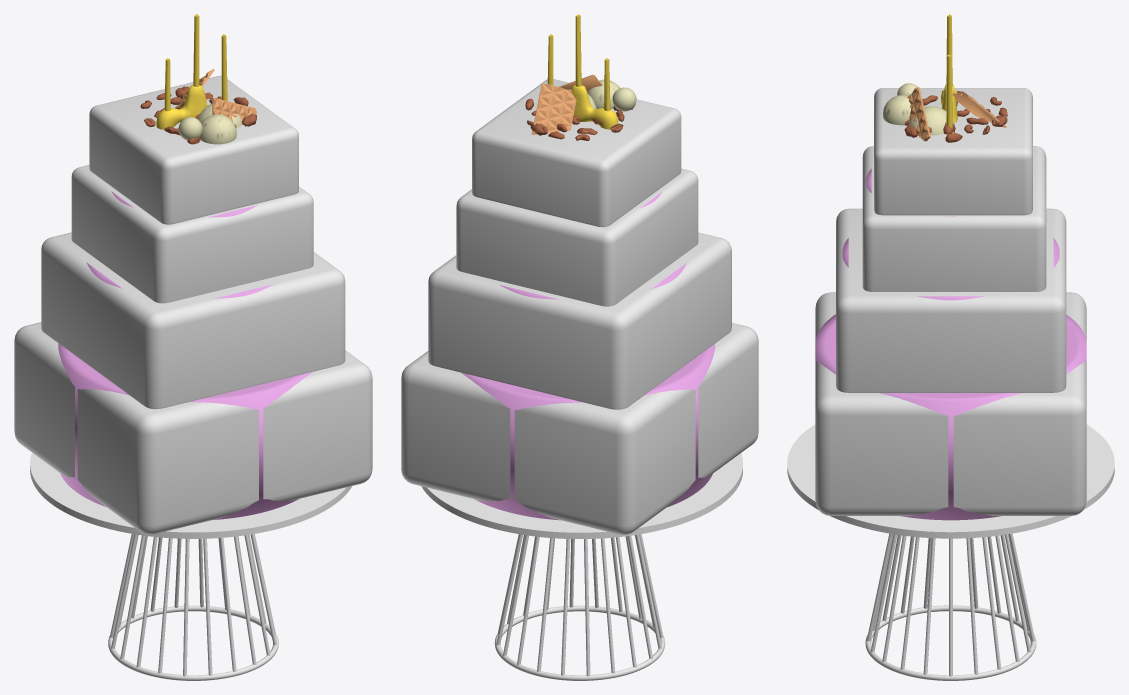
File: tier3.gltf
3 renders of one model, left to right at view 1: azimuth 30°, elevation 25°; view 2: azimuth 150°, elevation 25°; view 3: azimuth 270°, elevation 25°, orthographic.
Parts seen in each view (by area): view 1: Rectangle1st_layer, Rectangle2nd_layer, Rectangle3rd_layer, Rectangle4th_layer, Base-2, round1st_layer, chandel, balls, nuts, bar; view 2: Rectangle1st_layer, Rectangle2nd_layer, Rectangle3rd_layer, Rectangle4th_layer, Base-2, round1st_layer, chandel, bar, balls, nuts; view 3: Rectangle1st_layer, Rectangle2nd_layer, Base-2, Rectangle4th_layer, Rectangle3rd_layer, round1st_layer, balls, bar, nuts, chandel, round2nd_layer.
Part boxes in pixels (bbox=[...]): Rectangle1st_layer: bbox=[14, 322, 372, 534]; Rectangle2nd_layer: bbox=[41, 232, 345, 409]; Rectangle3rd_layer: bbox=[71, 165, 313, 303]; Rectangle4th_layer: bbox=[89, 75, 298, 224]; Base-2: bbox=[30, 453, 351, 680]; round1st_layer: bbox=[58, 343, 312, 519]; chandel: bbox=[156, 14, 227, 129]; balls: bbox=[178, 104, 242, 144]; nuts: bbox=[140, 86, 256, 144]; bar: bbox=[175, 69, 256, 122]; Rectangle1st_layer: bbox=[401, 322, 758, 534]; Rectangle2nd_layer: bbox=[428, 232, 731, 409]; Rectangle3rd_layer: bbox=[456, 168, 698, 306]; Rectangle4th_layer: bbox=[472, 79, 681, 227]; Base-2: bbox=[421, 453, 742, 680]; round1st_layer: bbox=[461, 344, 714, 520]; chandel: bbox=[547, 14, 618, 129]; bar: bbox=[531, 74, 602, 134]; balls: bbox=[568, 79, 636, 111]; nuts: bbox=[525, 98, 635, 140]; Rectangle1st_layer: bbox=[815, 292, 1086, 515]; Rectangle2nd_layer: bbox=[836, 208, 1066, 392]; Base-2: bbox=[787, 424, 1114, 680]; Rectangle4th_layer: bbox=[874, 88, 1032, 215]; Rectangle3rd_layer: bbox=[862, 146, 1046, 291]; round1st_layer: bbox=[815, 314, 1086, 520]; balls: bbox=[883, 83, 954, 135]; bar: bbox=[906, 87, 1006, 141]; nuts: bbox=[904, 91, 1007, 142]; chandel: bbox=[941, 14, 958, 134]; round2nd_layer: bbox=[842, 238, 1059, 300].
Bounding box in the file's own units: 2.3 × 4.9 × 2.3.
